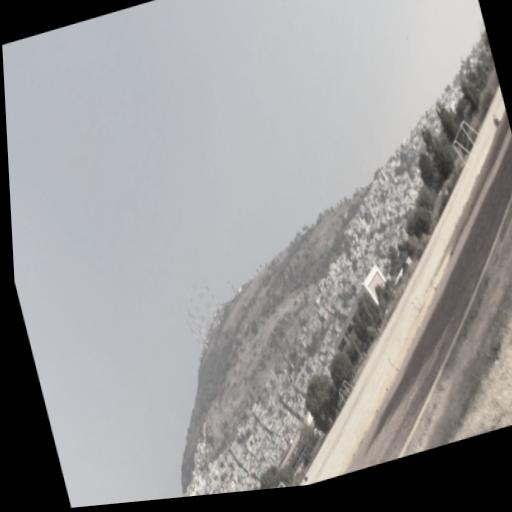drones: (404, 34, 410, 42)
